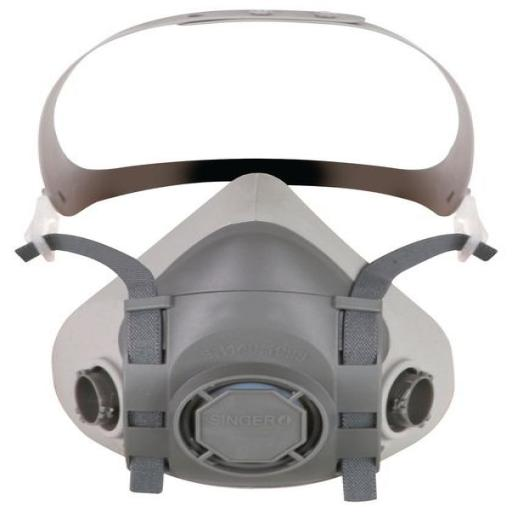mask: (8, 201, 512, 512)
